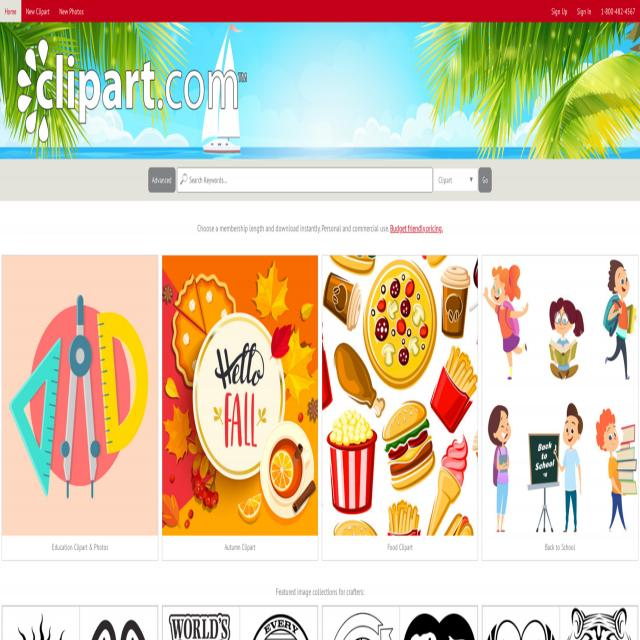button: (2, 255, 158, 560), (482, 256, 638, 561), (162, 255, 318, 559), (322, 255, 477, 560), (9, 31, 256, 152), (2, 605, 80, 640), (481, 606, 559, 640), (560, 606, 638, 640), (80, 606, 158, 640), (240, 606, 318, 640), (399, 606, 477, 640), (162, 606, 239, 640), (322, 606, 398, 640), (54, 0, 88, 23), (21, 0, 55, 23), (148, 168, 176, 192), (546, 0, 572, 23), (572, 0, 596, 23), (0, 0, 22, 23), (478, 168, 492, 192)
field: (176, 167, 432, 192), (434, 169, 477, 191)
